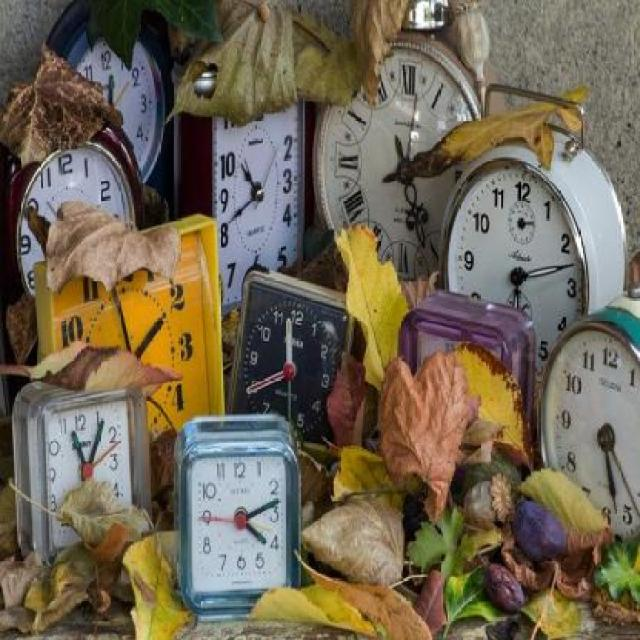clock: (451, 176, 583, 315), (554, 339, 640, 505), (192, 450, 287, 600)
